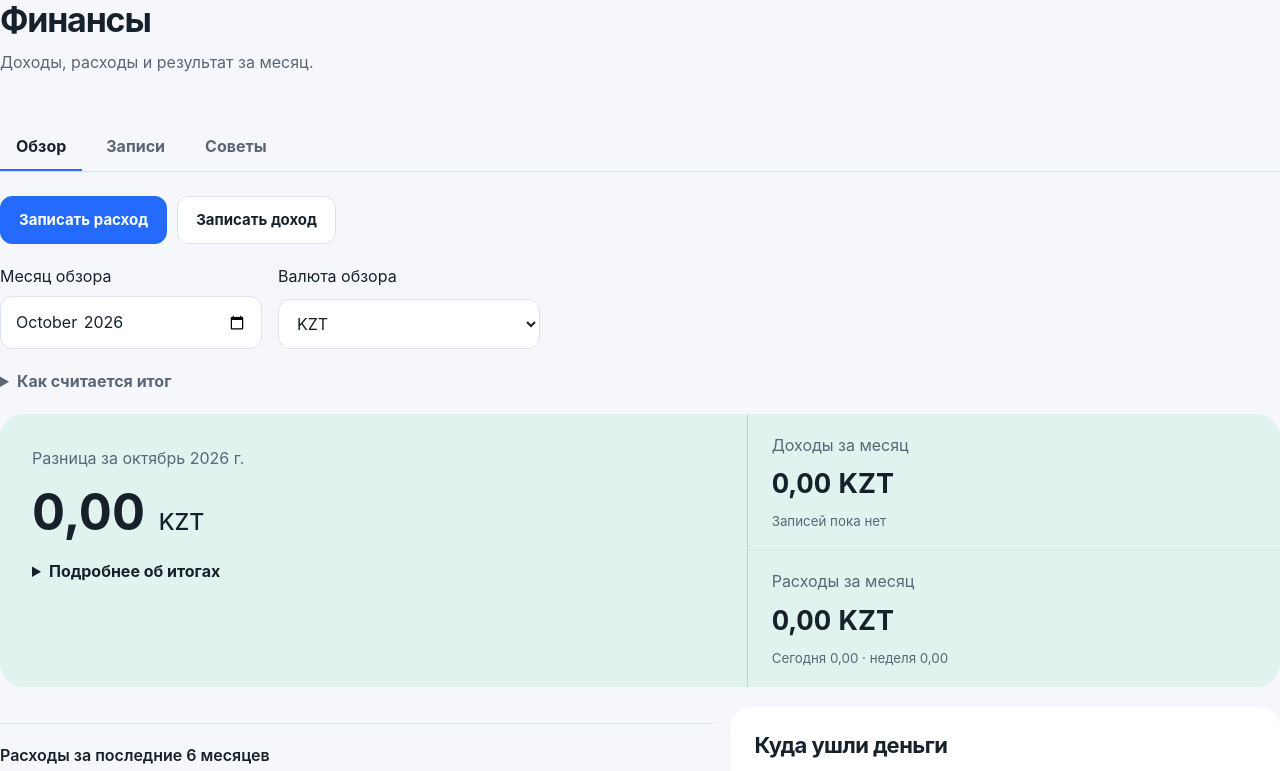
Scenario: finance starts with one clear overview and opens records only on request
The image size is (1280, 771).
Expected: the element with test id "finance-net-total" is shown, 32,480 -> 204,542
Expected: the button "Добавить расход" is not shown
Click the button "Записать расход". click: [84, 220]
box: 0,196 -> 167,244
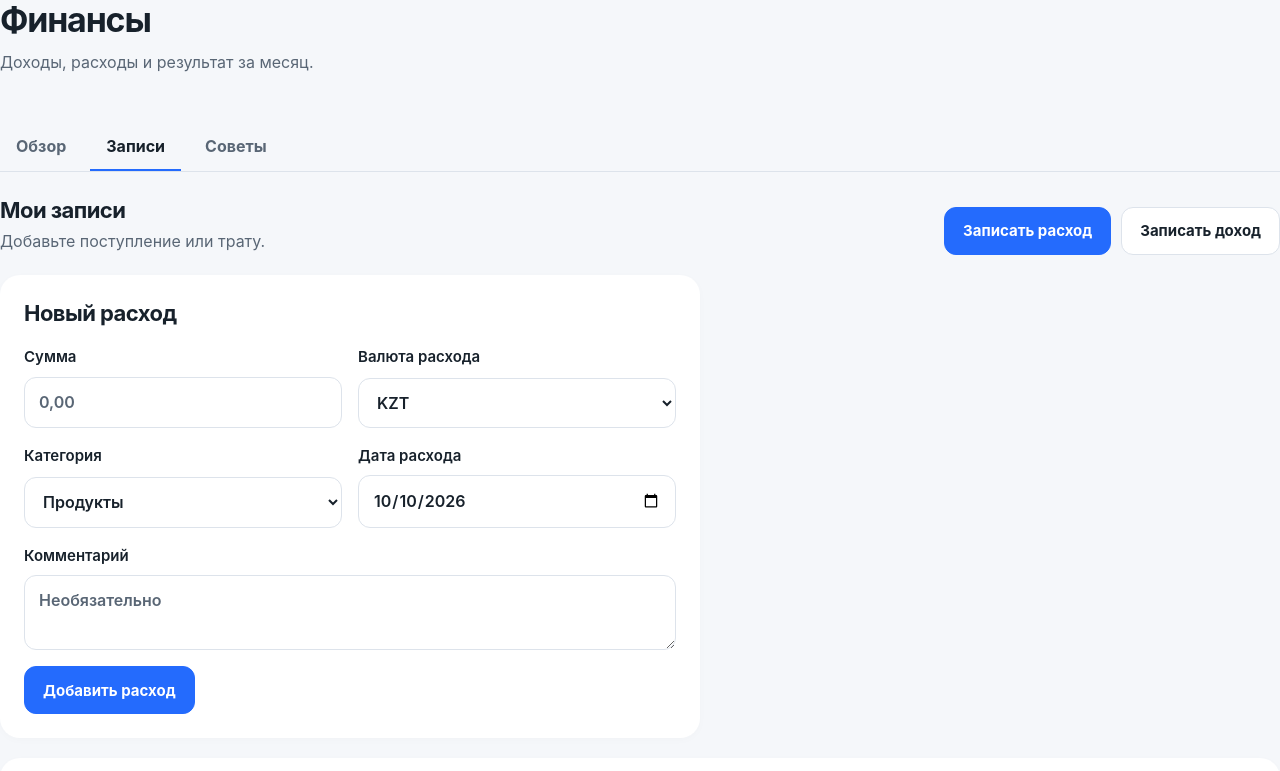
Result: the button "Добавить расход" is shown at 24,666 -> 195,714
